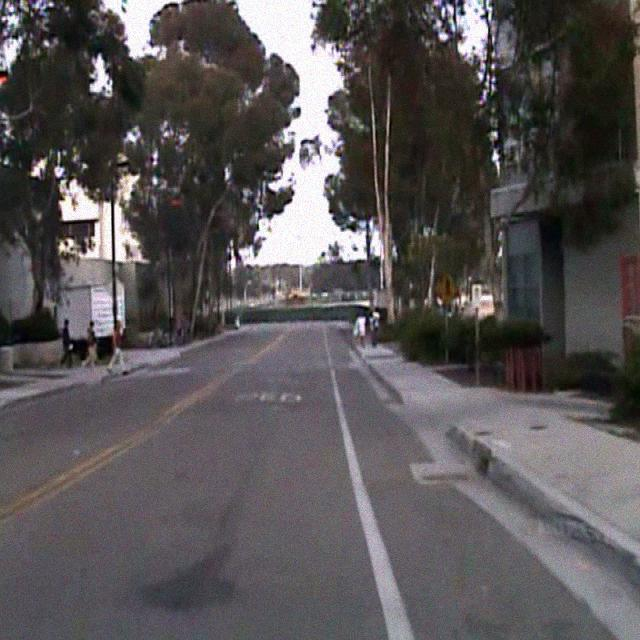pedestrianCrossing: (436, 268, 458, 309)
